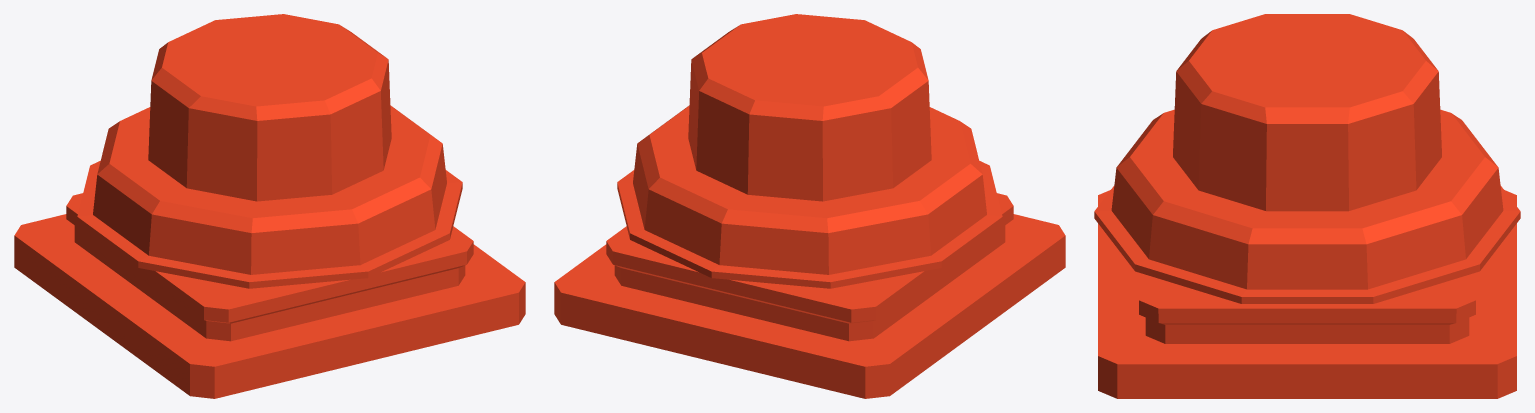
File: SM_Chimney_C_City.fbx
3 renders of one model, left to right at view 1: azimuth 30°, elevation 25°; view 2: azimuth 150°, elevation 25°; view 3: azimuth 270°, elevation 25°, orthographic. The views are drawn at different scales.
Visible parts, largest first — view 1: SM_Chimney_C_City; view 2: SM_Chimney_C_City; view 3: SM_Chimney_C_City.
Boxes of the visible parts, left/top/right/bottom form: SM_Chimney_C_City: left=14, top=14, right=525, bottom=398; SM_Chimney_C_City: left=554, top=14, right=1065, bottom=398; SM_Chimney_C_City: left=1094, top=14, right=1520, bottom=398.
Bounding box in the file's own units: 0.4787 × 0.3145 × 0.4867.
